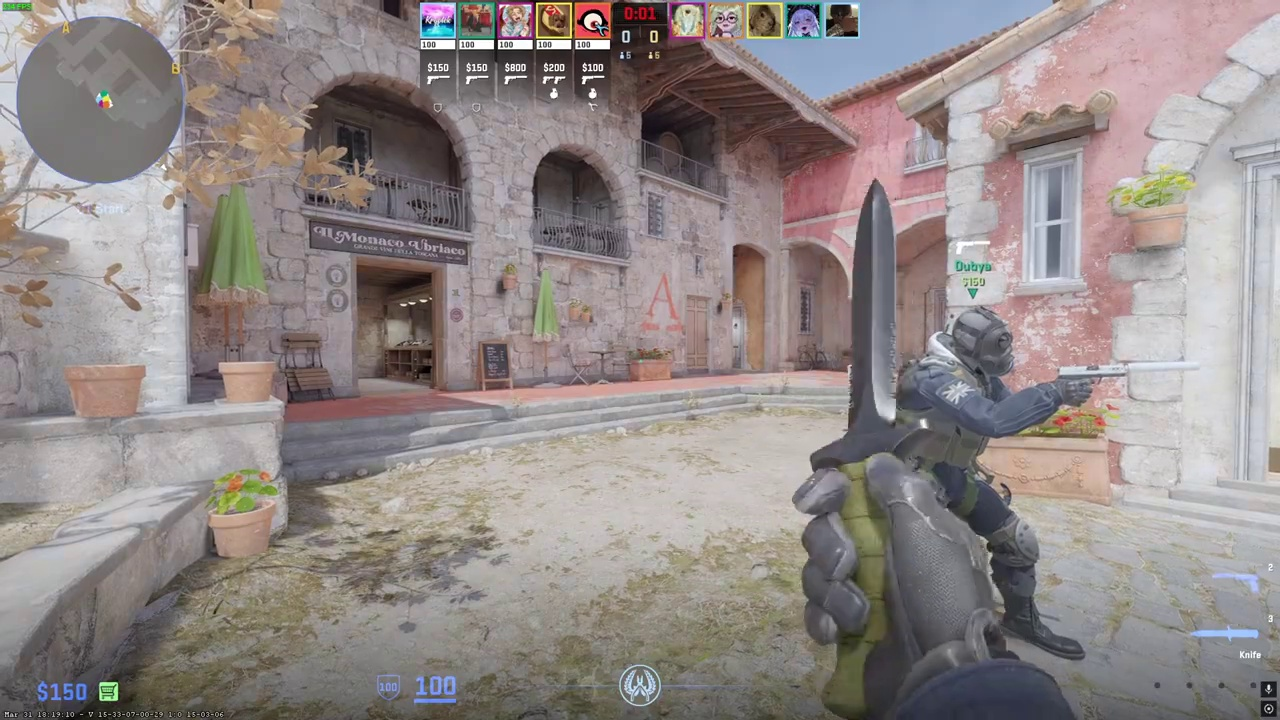CT: (897, 306, 1086, 660)
